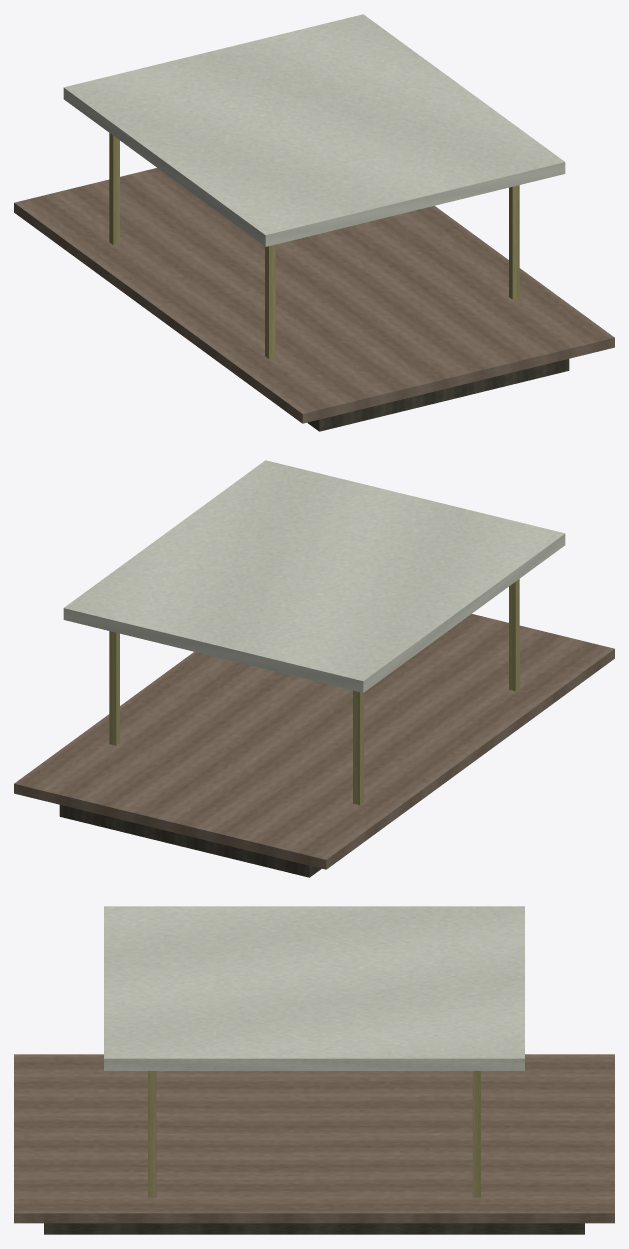
File: bung-raft-2-white-lod.glb
3 views of the same model, one above another, from view 1: azimuth 30°, elevation 25°; view 2: azimuth 150°, elevation 25°; view 3: azimuth 270°, elevation 25° (orthographic). The views are drawn at different scales.
Visible parts, largest first — view 1: bung-raft-2-white-lod; view 2: bung-raft-2-white-lod; view 3: bung-raft-2-white-lod.
Part boxes in pixels (x1,y1,x2,y2): bung-raft-2-white-lod: [14, 14, 614, 431]; bung-raft-2-white-lod: [14, 460, 614, 877]; bung-raft-2-white-lod: [14, 906, 614, 1234].
Bounding box in the file's own units: 5 × 2.78 × 8.
Materials: 1 (1 with a texture image).
